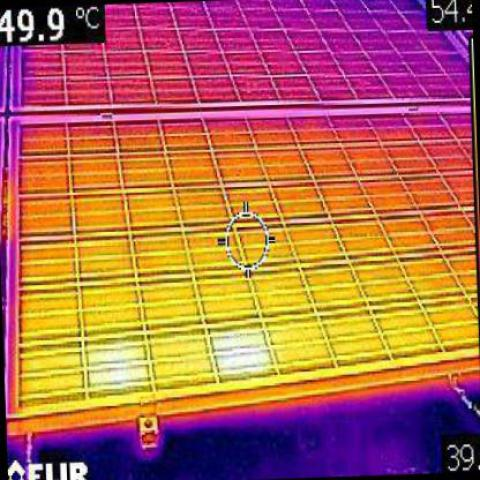fault: (211, 331, 270, 377), (86, 348, 149, 382)
